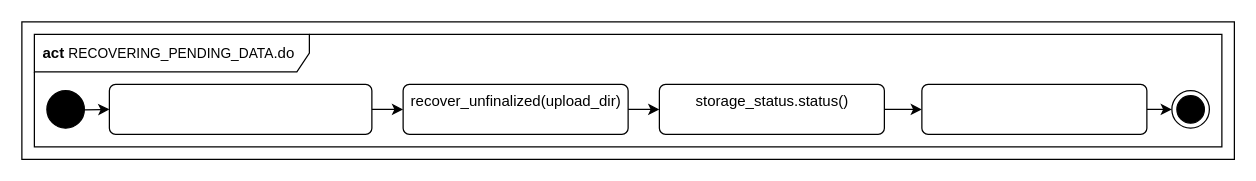
The diagram is 1256 pixels wide and 181 high, and some of its shapes have lost their labels. The shapes that lost their labels are listed below. From the top down, each one's box as (x1, y1, x2, y2) in pixels, then its label:
(108, 83, 372, 134): discard_stale_temp_files(upload_dir)
(921, 83, 1147, 134): log_ip_addrs(network_interfaces)
